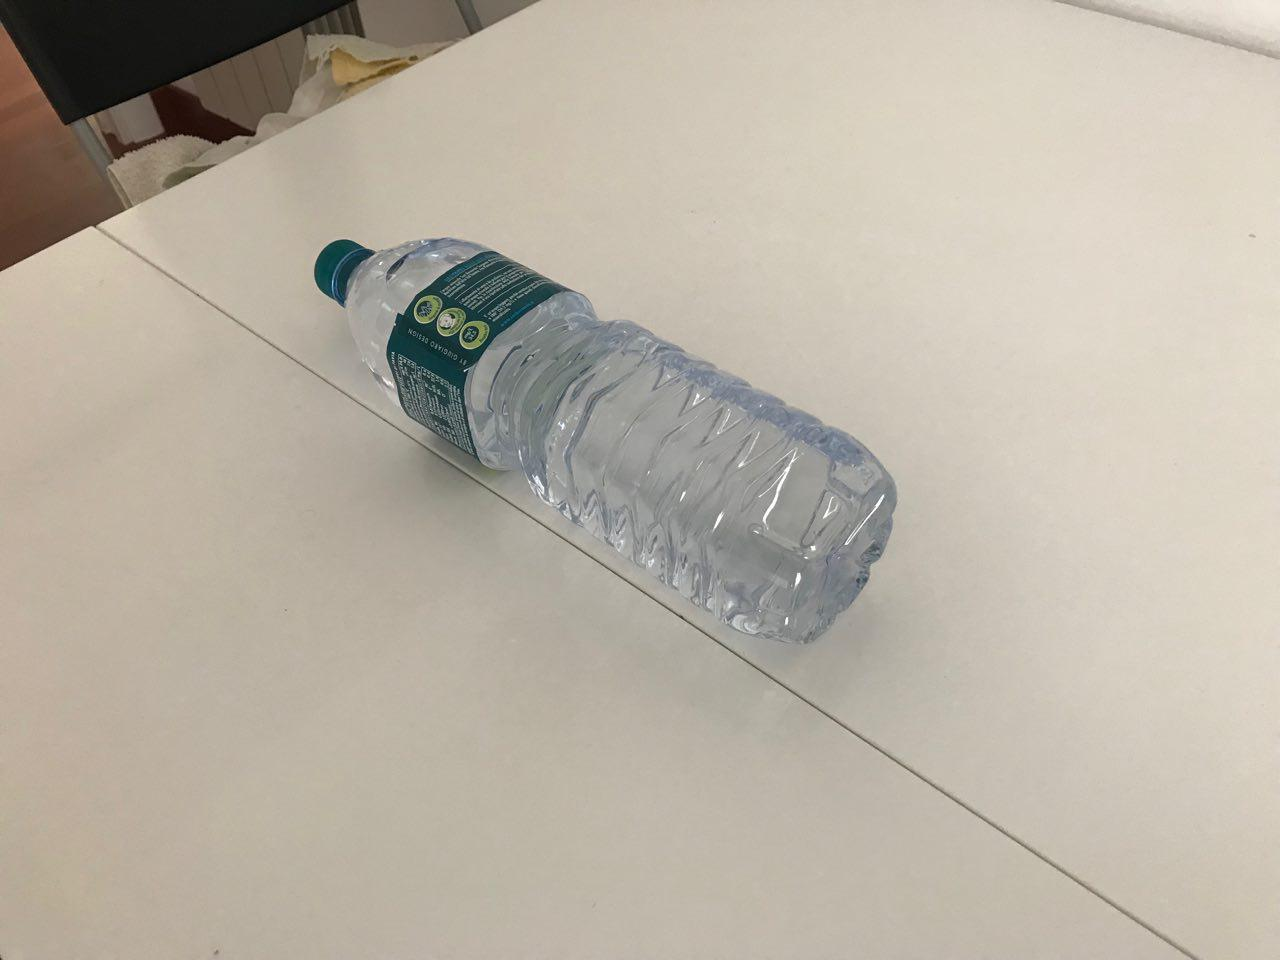san_bernardo: (312, 235, 898, 648)
